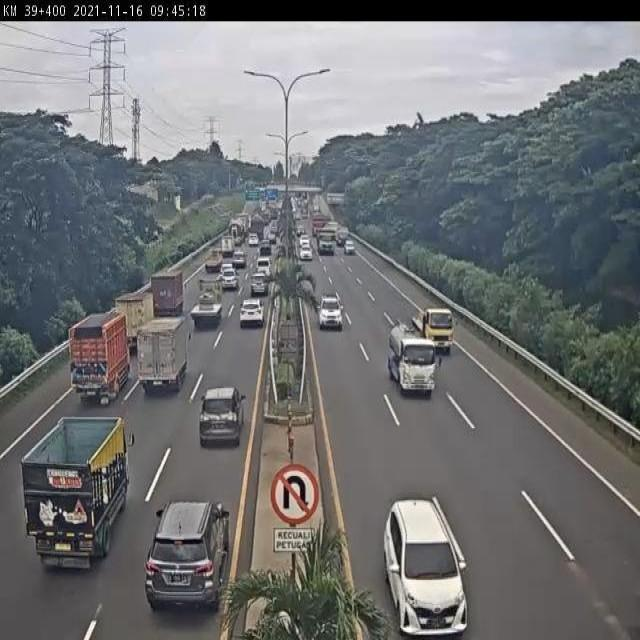Car: (382, 496, 471, 640), (145, 498, 233, 615), (198, 386, 248, 448), (317, 289, 344, 328), (238, 297, 264, 330), (250, 276, 268, 296), (222, 269, 238, 290), (298, 242, 314, 260), (232, 250, 246, 268), (258, 239, 272, 255), (344, 238, 356, 256), (220, 263, 234, 277), (298, 234, 312, 246), (248, 233, 259, 246), (267, 231, 277, 245), (296, 224, 306, 237)
Truck: (20, 415, 134, 574), (68, 309, 130, 405), (386, 318, 442, 398), (136, 315, 190, 396), (115, 287, 154, 350), (411, 306, 458, 356), (190, 277, 225, 327), (150, 270, 184, 317), (315, 226, 335, 257), (204, 246, 224, 273), (228, 216, 245, 247), (310, 212, 328, 238), (250, 215, 266, 242), (235, 212, 250, 238), (220, 234, 235, 260), (336, 225, 351, 246), (324, 220, 340, 231)
Van: (256, 256, 273, 281)
